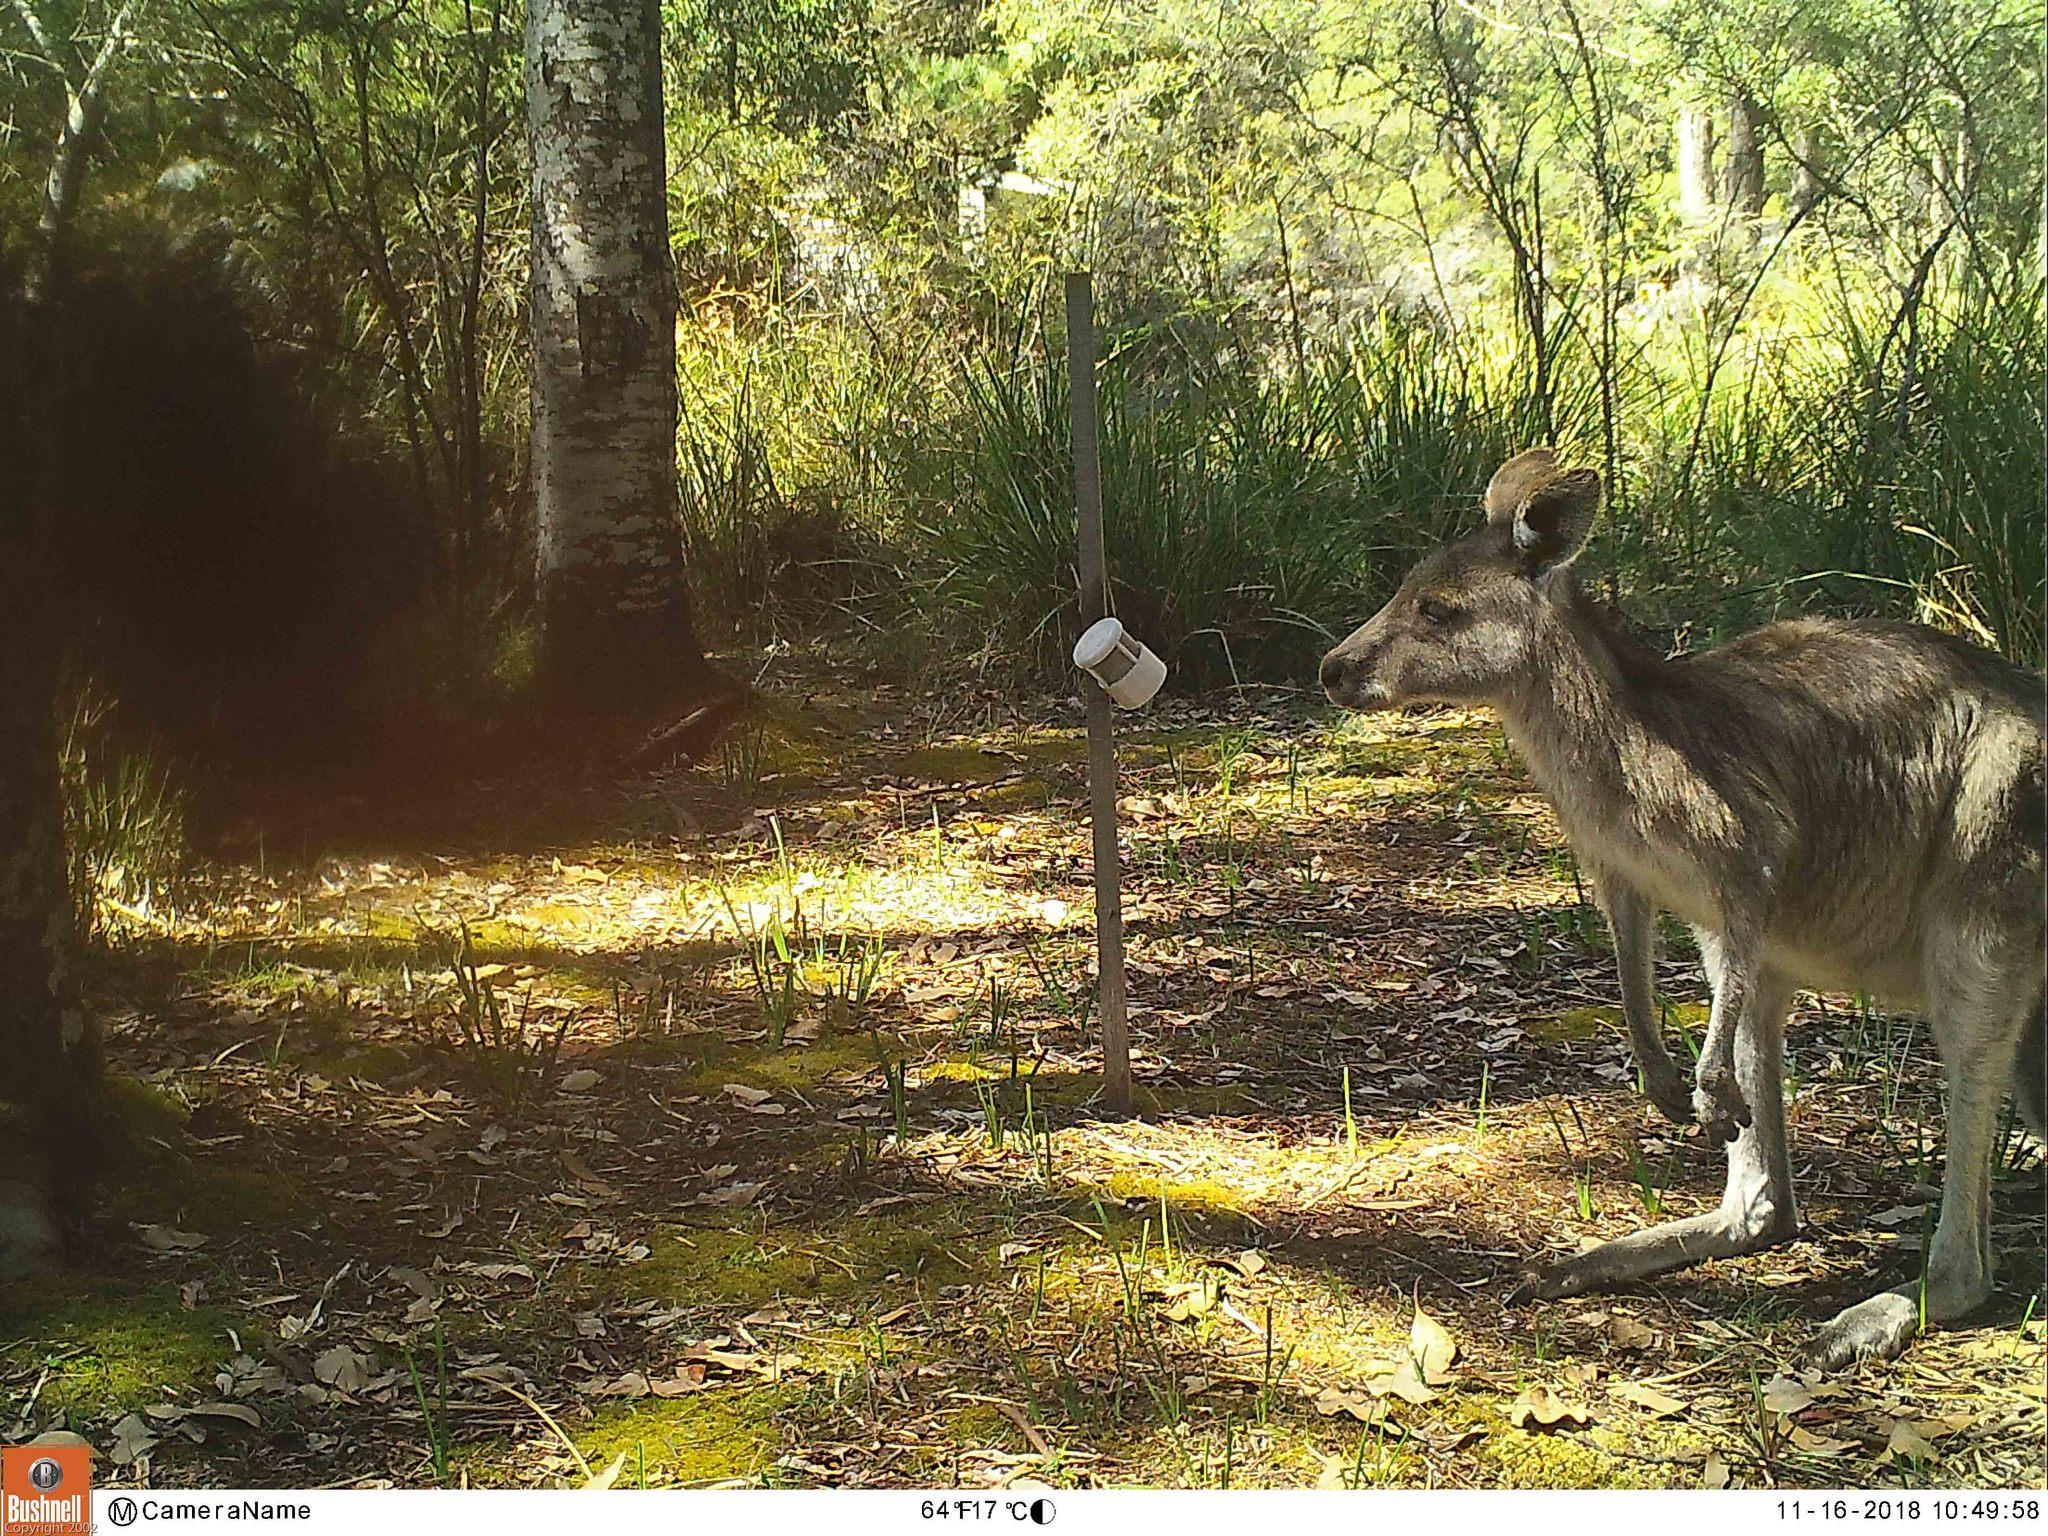Eastern grey kangaroo: (1322, 450, 2048, 1383)
